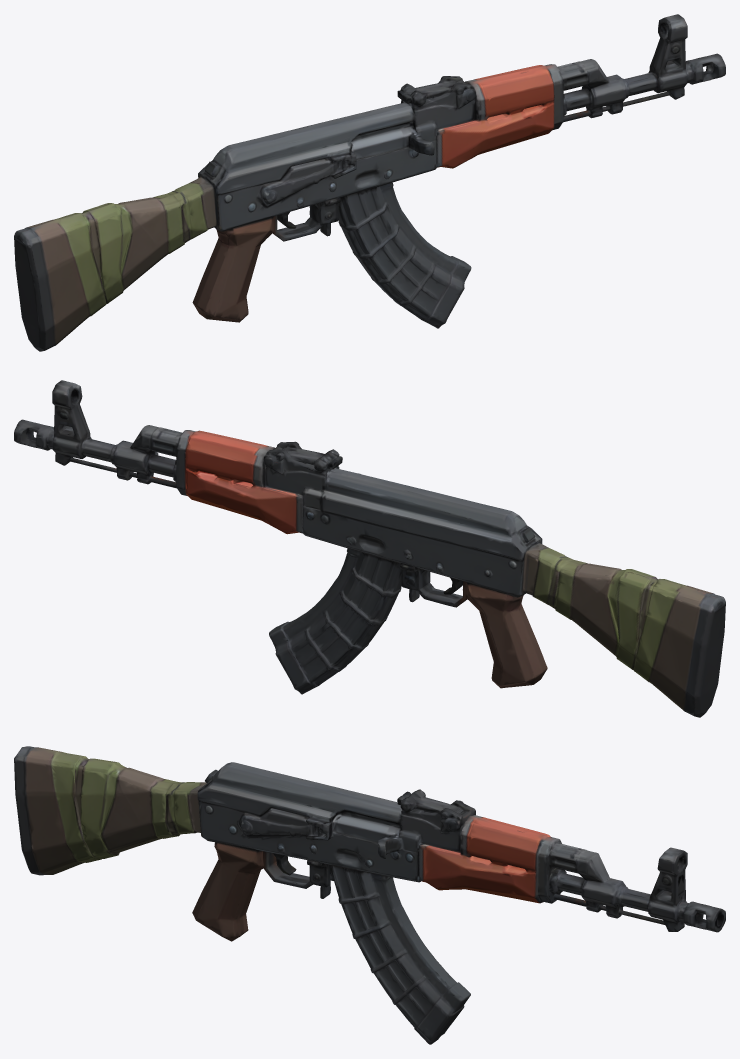
Rendered from weapon_ak.glb.
3 views of the same model, one above another, from view 1: azimuth 30°, elevation 25°; view 2: azimuth 150°, elevation 25°; view 3: azimuth 330°, elevation 25° (orthographic).
Visible parts, largest first — view 1: node_0; view 2: node_0; view 3: node_0.
Part boxes in pixels (<box>): node_0: <box>14,14,725,351</box>; node_0: <box>14,380,725,717</box>; node_0: <box>14,746,725,1044</box>.
Size of the model in its own units: 1.17 by 0.4001 by 0.105.
Materials: 1 (1 with a texture image).
